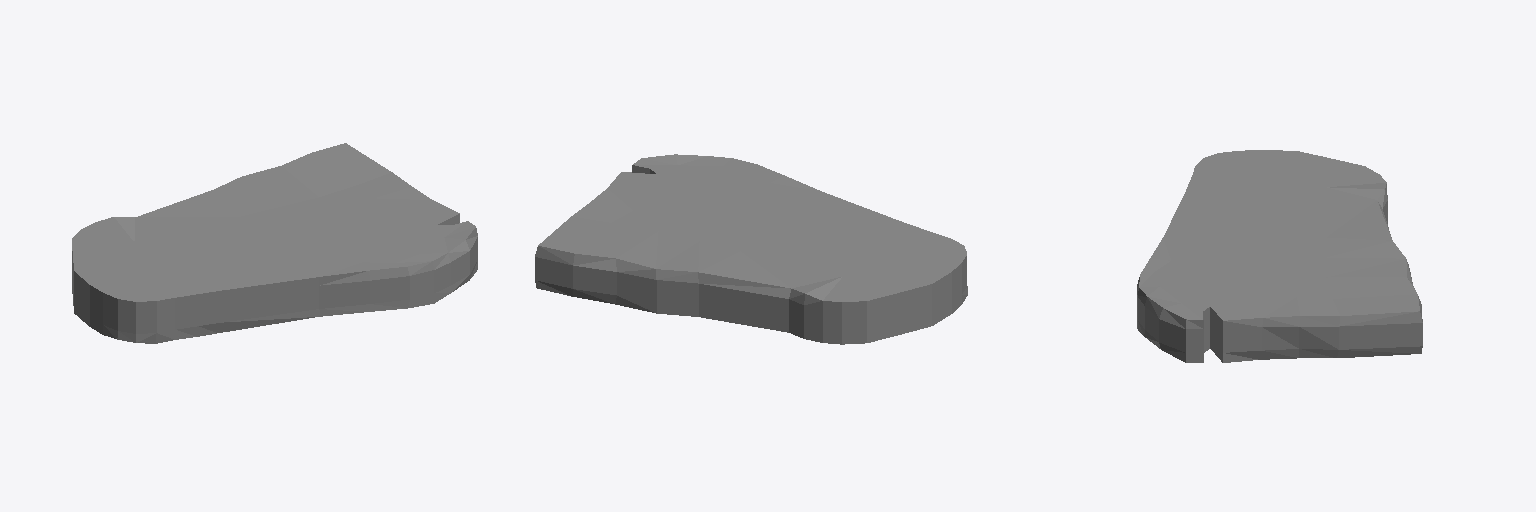
File: meat.obj
3 renders of one model, left to right at view 1: azimuth 30°, elevation 25°; view 2: azimuth 150°, elevation 25°; view 3: azimuth 270°, elevation 25°, orthographic.
Parts seen in each view (by area): view 1: Meat; view 2: Meat; view 3: Meat.
Boxes of the visible parts, x1,y1,x2,y2 form: Meat: [72, 143, 477, 343]; Meat: [535, 154, 967, 344]; Meat: [1137, 150, 1422, 362].
Size of the model in its own units: 0.9036 by 0.112 by 0.6373.